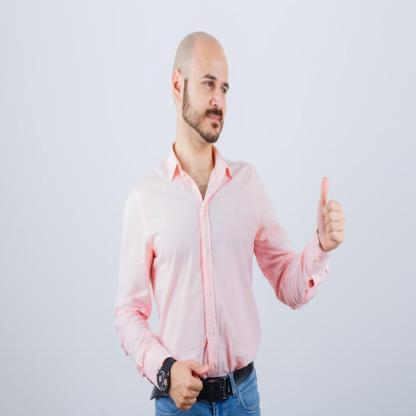thumb_up: (309, 174, 346, 254)
